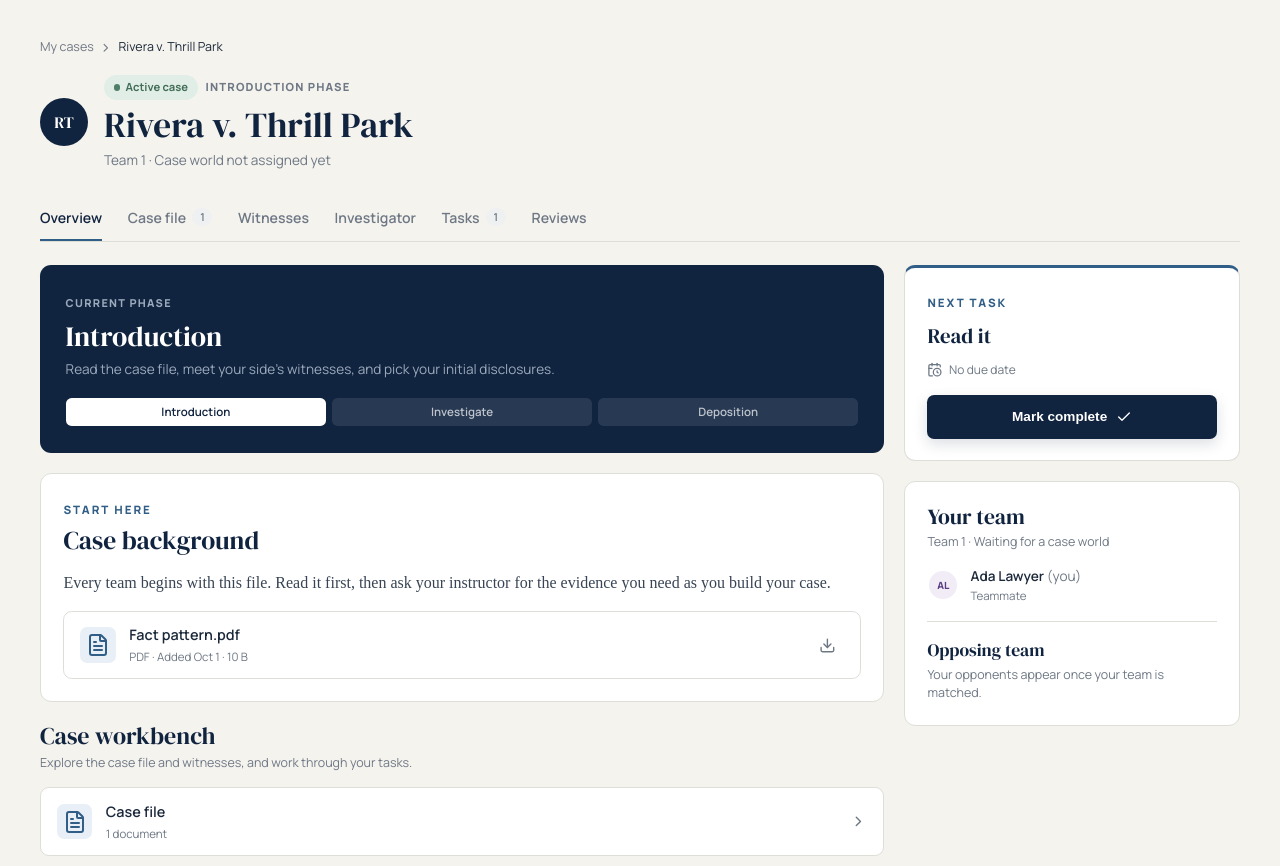
Test case: StudentCasePage › marks a task done and shows the updated case
The image size is (1280, 866).
Click the button "Mark complete" at (1072,417), box 927,395 -> 1217,439
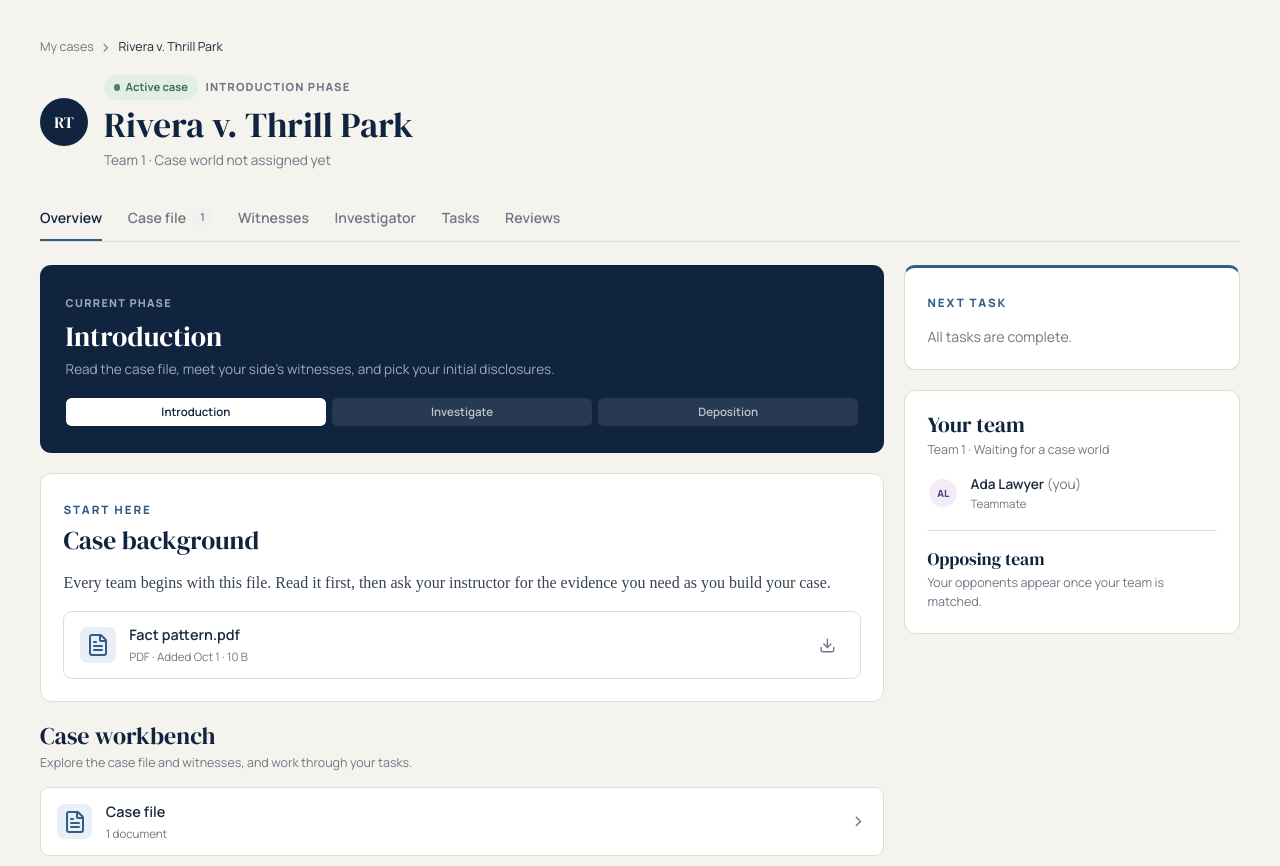
Result: the text "All tasks are complete." is shown at 927,327 -> 1072,346
